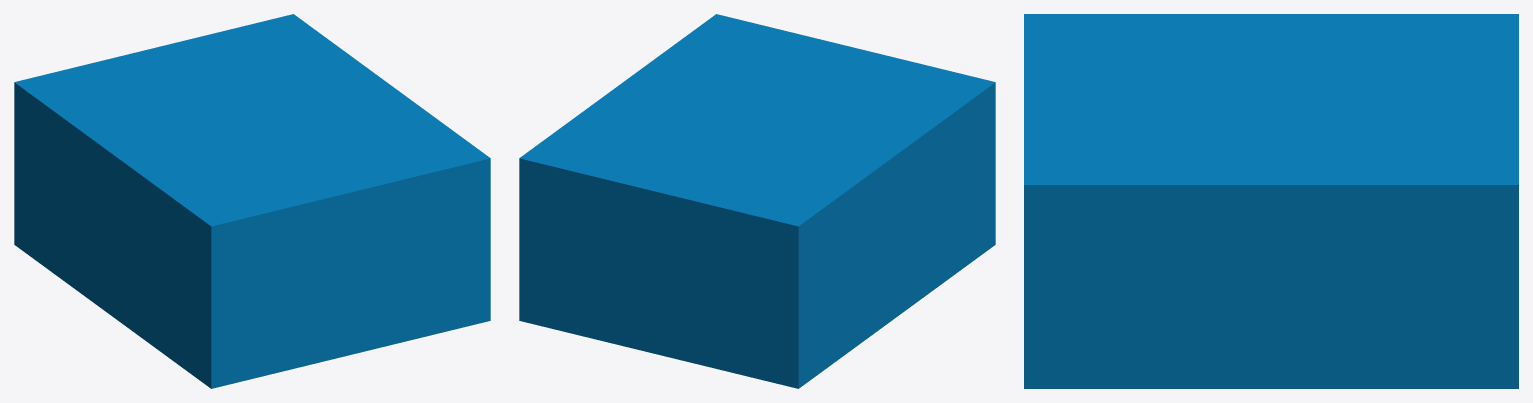
The model's file is plenum-supply.glb.
3 views of the same model, side by side, from view 1: azimuth 30°, elevation 25°; view 2: azimuth 150°, elevation 25°; view 3: azimuth 270°, elevation 25° (orthographic). The views are drawn at different scales.
Parts seen in each view (by area): view 1: hvac-plenum-supply-plenum; view 2: hvac-plenum-supply-plenum; view 3: hvac-plenum-supply-plenum.
Boxes of the visible parts, x1,y1,x2,y2 form: hvac-plenum-supply-plenum: (14,14,490,388); hvac-plenum-supply-plenum: (519,14,995,388); hvac-plenum-supply-plenum: (1024,14,1518,388).
Size of the model in its own units: 0.4572 by 0.254 by 0.5588.
